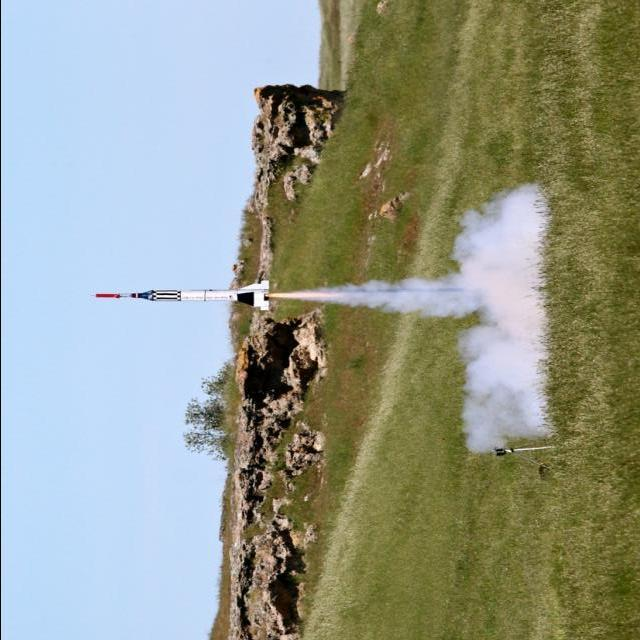Missile: (93, 278, 271, 312)
